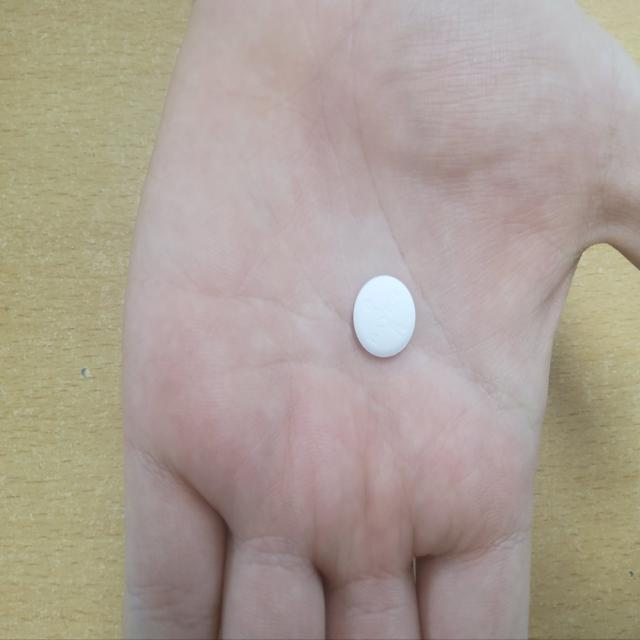-: (348, 264, 421, 364)
